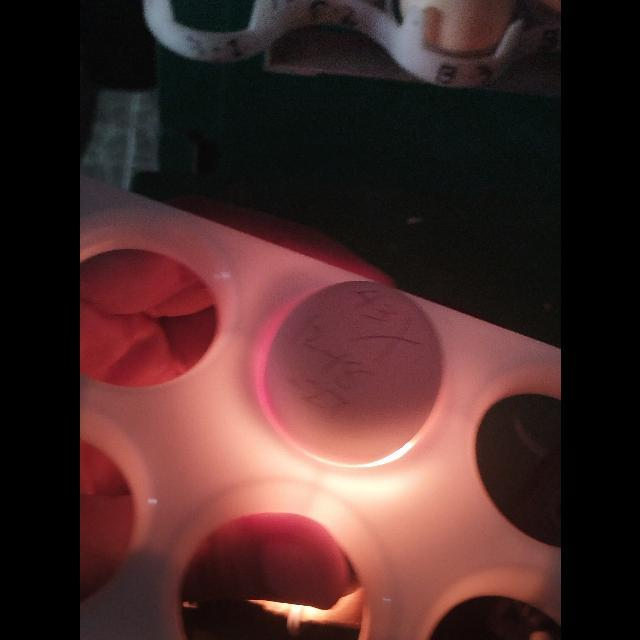Fertile: (259, 276, 445, 468)
